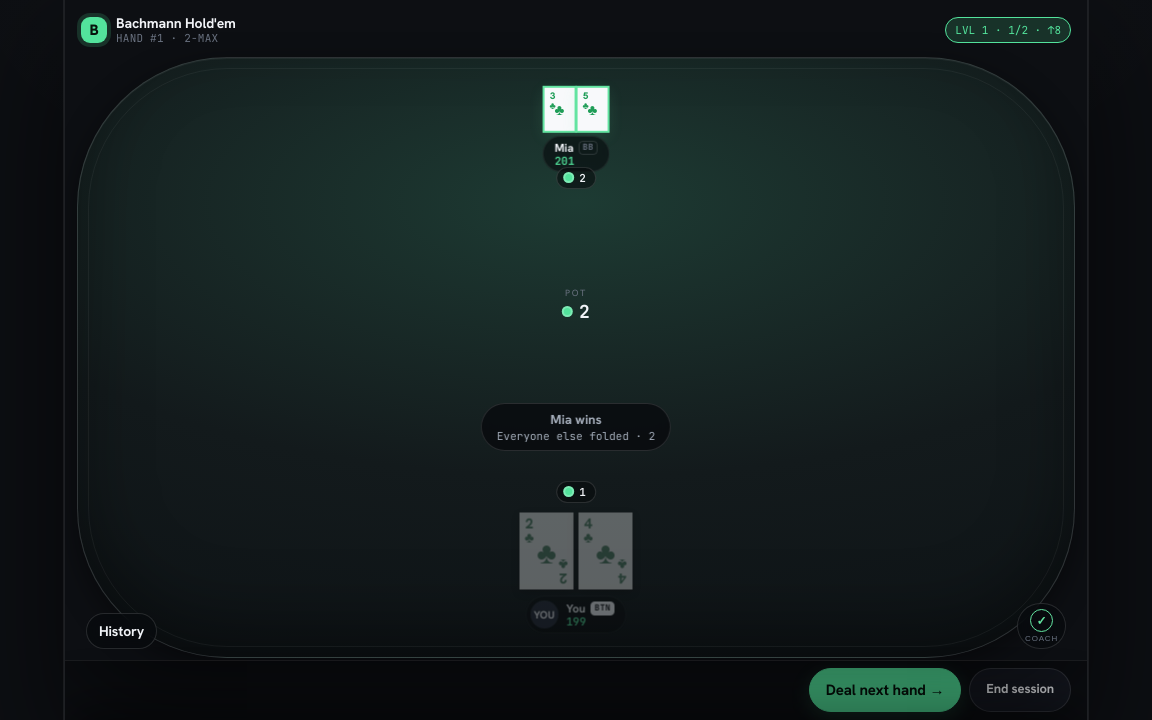
Test case: App — mid-game save/resume › clears the save when the hero ends the session (quit), so the next launch is fresh
Click the button "End session": point(1020, 690) [969, 668, 1071, 712]
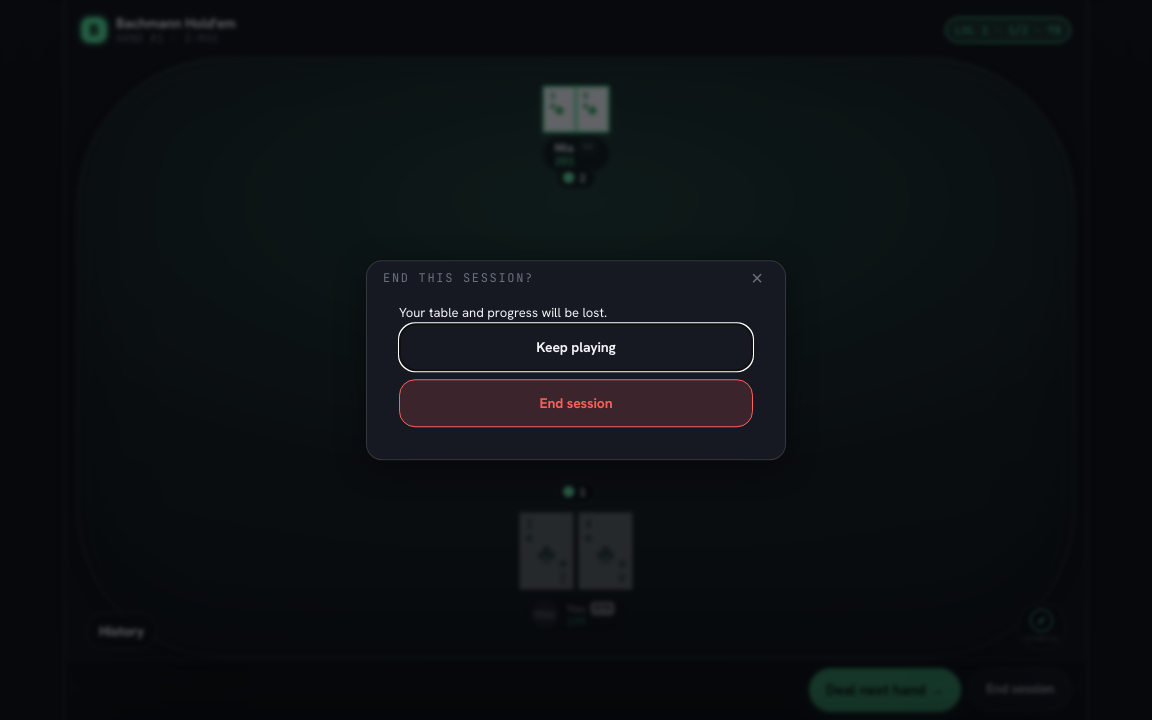
Click the button with test id "quit-confirm-end": point(576, 403) [399, 379, 753, 427]
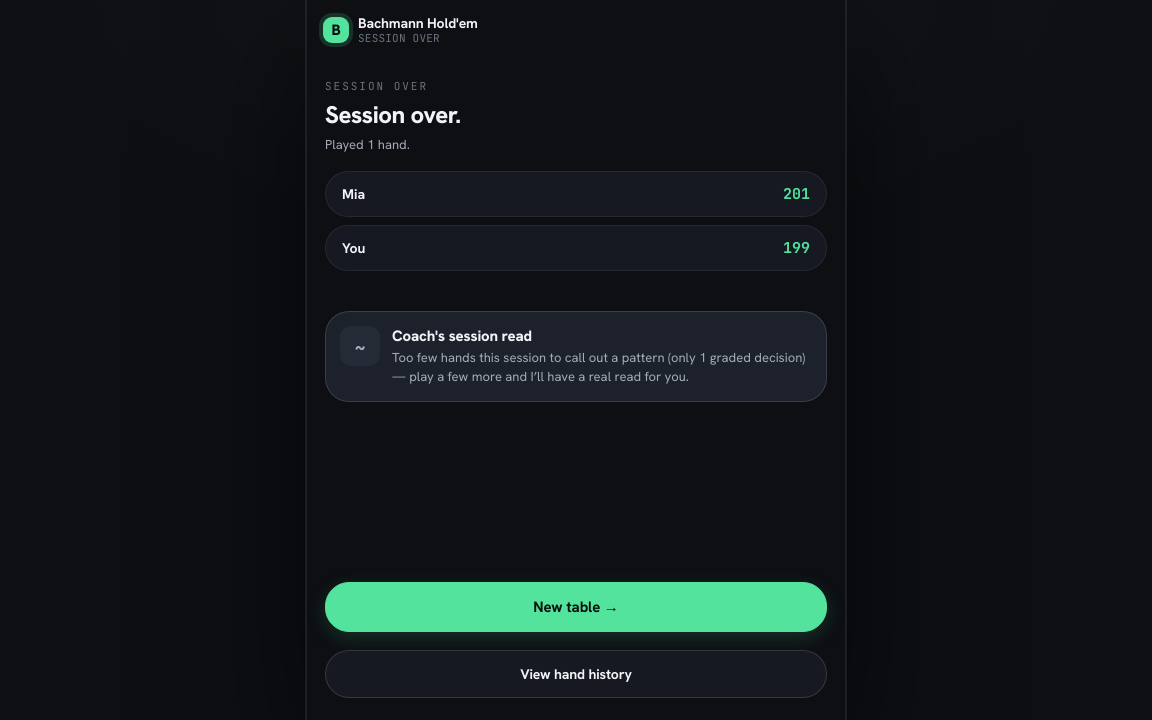
Expected: the element with test id "summary" that starts with "Bachmann Hold'em" is shown, [306, 0, 846, 719]
